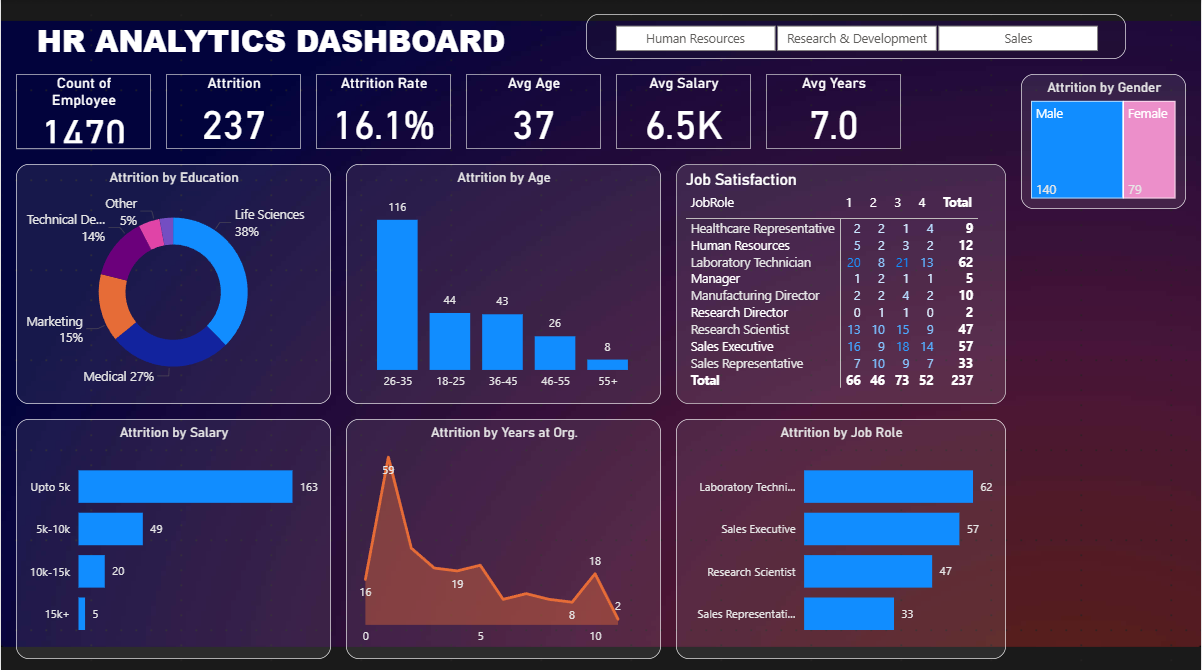

What the dashboard file says about the page in this screenshot:
{"tool":"powerbi","page":{"name":"Page 1","canvas":[1280,720],"ordinal":0},"visuals":[{"type":"card","title":"Count of Employee","fields":{"Values":["CountNonNull(HR_Analytics.EmpID)"]},"box":[16,80,144,80],"z":0},{"type":"card","title":"Attrition","fields":{"Values":["Sum(HR_Analytics.AttritionCount)"]},"box":[176,80,144,80],"z":1000},{"type":"card","title":"Attrition Rate","fields":{"Values":["HR_Analytics.AttritionRate"]},"box":[336,80,144,80],"z":2000},{"type":"card","title":"Avg Age","fields":{"Values":["Avg(HR_Analytics.Age)"]},"box":[496,80,144,80],"z":3000},{"type":"card","title":"Avg Salary","fields":{"Values":["Avg(HR_Analytics.MonthlyIncome)"]},"box":[656,80,144,80],"z":4000},{"type":"card","title":"Avg Years","fields":{"Values":["Avg(HR_Analytics.YearsAtCompany)"]},"box":[816,80,144,80],"z":5000},{"type":"donutChart","title":"Attrition by Education","fields":{"Category":["HR_Analytics.EducationField"],"Y":["Sum(HR_Analytics.AttritionCount)"]},"box":[16,176,336,256],"z":6000},{"type":"columnChart","title":"Attrition by Age","fields":{"Category":["HR_Analytics.AgeGroup"],"Y":["Sum(HR_Analytics.AttritionCount)"]},"box":[368,176,336,256],"z":7000},{"type":"pivotTable","title":"Job Satisfaction","fields":{"Rows":["HR_Analytics.JobRole"],"Columns":["HR_Analytics.JobSatisfaction"],"Values":["Sum(HR_Analytics.AttritionCount)"]},"box":[720,176,352,256],"z":8000},{"type":"barChart","title":"Attrition by Salary","fields":{"Category":["HR_Analytics.SalarySlab"],"Y":["Sum(HR_Analytics.AttritionCount)"]},"box":[16,448,336,256],"z":9000},{"type":"barChart","title":"Attrition by Job Role","fields":{"Category":["HR_Analytics.JobRole"],"Y":["Sum(HR_Analytics.AttritionCount)"]},"box":[720,448,352,256],"z":10000},{"type":"areaChart","title":"Attrition by Years at Org.","fields":{"Category":["HR_Analytics.YearsAtCompany"],"Y":["Sum(HR_Analytics.AttritionCount)"]},"box":[368,448,336,256],"z":11000},{"type":"treemap","title":"Attrition by Gender","fields":{"Group":["HR_Analytics.Gender"],"Values":["Sum(HR_Analytics.AttritionCount)"]},"box":[1088,80,176,144],"z":12000},{"type":"slicer","fields":{"Values":["HR_Analytics.Department"]},"box":[624,16,576,48],"z":13000},{"type":"textbox","box":[0,16,576,64],"z":14000}]}

Visuals, with their boxes in screenshot pixels (x1, y1, x2, y2), scaled from the page's 1280x720 canvas onto the 1202x670 screenshot:
"Count of Employee" card: x1=15, y1=74, x2=150, y2=149
"Attrition" card: x1=165, y1=74, x2=300, y2=149
"Attrition Rate" card: x1=316, y1=74, x2=451, y2=149
"Avg Age" card: x1=466, y1=74, x2=601, y2=149
"Avg Salary" card: x1=616, y1=74, x2=751, y2=149
"Avg Years" card: x1=766, y1=74, x2=902, y2=149
"Attrition by Education" donutChart: x1=15, y1=164, x2=331, y2=402
"Attrition by Age" columnChart: x1=346, y1=164, x2=661, y2=402
"Job Satisfaction" pivotTable: x1=676, y1=164, x2=1007, y2=402
"Attrition by Salary" barChart: x1=15, y1=417, x2=331, y2=655
"Attrition by Job Role" barChart: x1=676, y1=417, x2=1007, y2=655
"Attrition by Years at Org." areaChart: x1=346, y1=417, x2=661, y2=655
"Attrition by Gender" treemap: x1=1022, y1=74, x2=1187, y2=208
slicer - HR_Analytics.Department: x1=586, y1=15, x2=1127, y2=60
textbox: x1=0, y1=15, x2=541, y2=74
